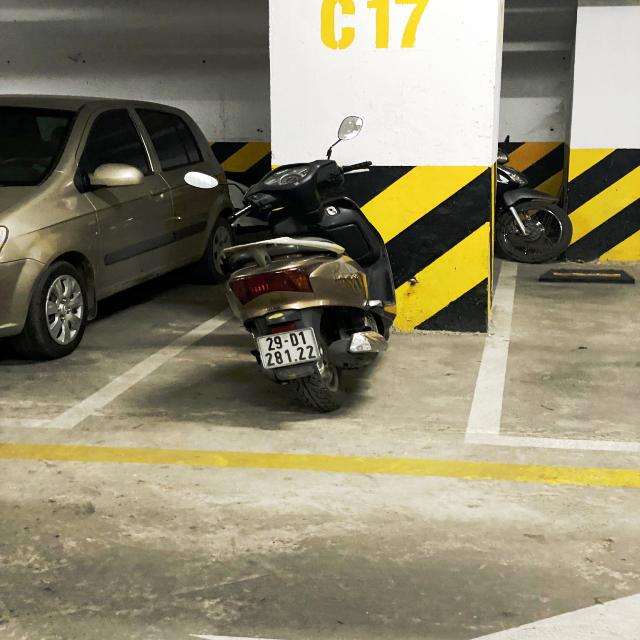license_plate: (255, 326, 327, 373)
